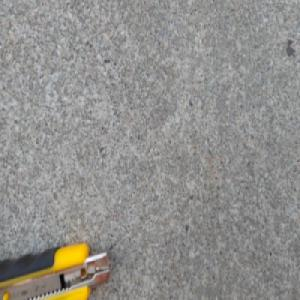Cutter: (0, 241, 112, 300)
